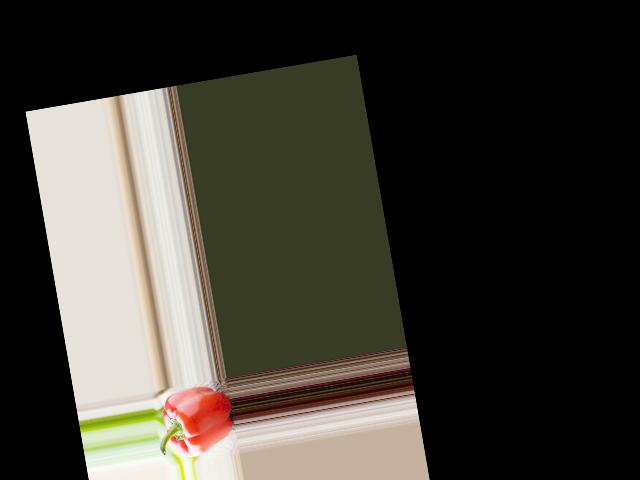bell_pepper: (153, 382, 240, 463)
